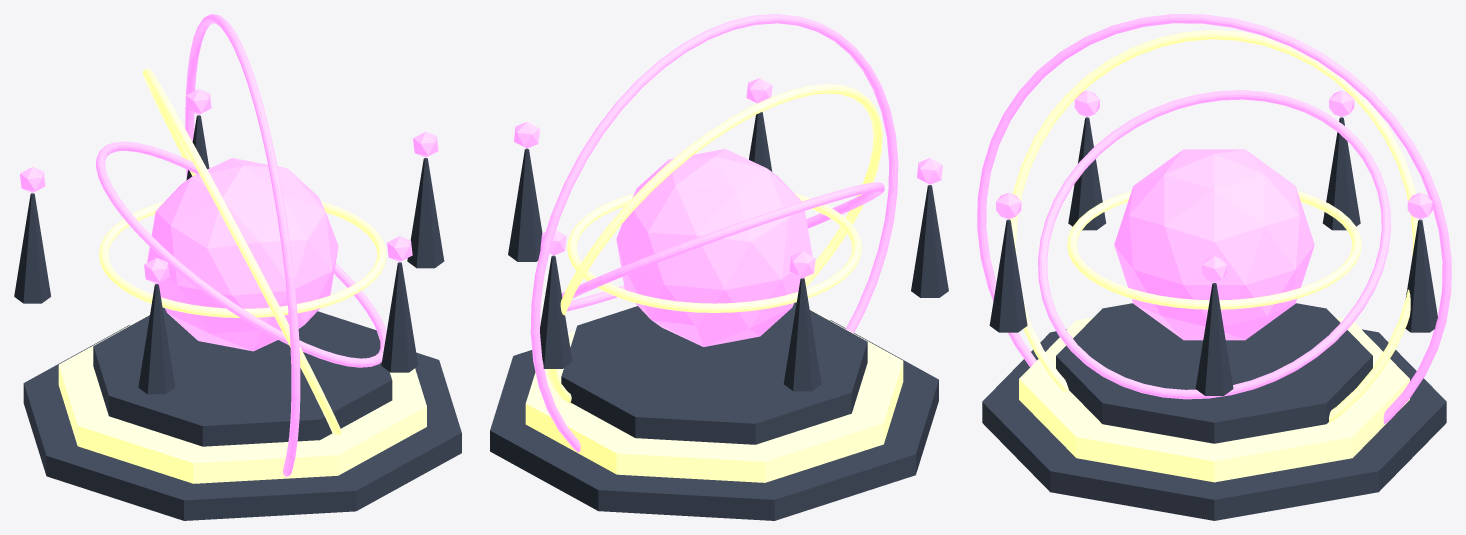
File: gpu-blender-v16.glb
3 renders of one model, left to right at view 1: azimuth 30°, elevation 25°; view 2: azimuth 150°, elevation 25°; view 3: azimuth 270°, elevation 25°, orthographic. The views are drawn at different scales.
Visible parts, largest first — view 1: Cylinder.002, SovereignCore_audiocipher-stego-engine, Cylinder, Cylinder.001, Torus.003, Torus.001, Torus.002, Torus, Cone.003, Cone.004, Cone.002, Cone (+5 smaller); view 2: Cylinder.002, SovereignCore_audiocipher-stego-engine, Cylinder, Cylinder.001, Torus.003, Torus.002, Torus, Torus.001, Cone.002, Cone.003, Cone, Cone.001 (+4 smaller); view 3: SovereignCore_audiocipher-stego-engine, Cylinder.002, Cylinder, Cylinder.001, Torus.003, Torus.001, Torus.002, Torus, Cone.004, Cone, Cone.001, Cone.002 (+2 smaller).
Boxes of the visible parts, <box> form: Cylinder.002: <box>93,307,392,446</box>; SovereignCore_audiocipher-stego-engine: <box>147,158,338,351</box>; Cylinder: <box>23,325,461,520</box>; Cylinder.001: <box>58,315,426,483</box>; Torus.003: <box>185,14,300,476</box>; Torus.001: <box>96,141,386,367</box>; Torus.002: <box>142,68,341,435</box>; Torus: <box>99,201,386,317</box>; Cone.003: <box>138,284,175,394</box>; Cone.004: <box>381,262,418,372</box>; Cone.002: <box>14,193,50,303</box>; Cone: <box>407,158,444,268</box>; Cylinder.002: <box>561,302,867,444</box>; SovereignCore_audiocipher-stego-engine: <box>616,149,812,346</box>; Cylinder: <box>490,320,938,520</box>; Cylinder.001: <box>525,310,903,482</box>; Torus.003: <box>530,14,898,452</box>; Torus.002: <box>547,84,882,403</box>; Torus: <box>567,193,861,312</box>; Torus.001: <box>561,182,884,311</box>; Cone.002: <box>783,278,821,391</box>; Cone.003: <box>911,185,948,297</box>; Cone: <box>508,148,542,261</box>; Cone.001: <box>540,255,572,368</box>; SovereignCore_audiocipher-stego-engine: <box>1114,149,1314,340</box>; Cylinder.002: <box>1056,303,1372,443</box>; Cylinder: <box>982,329,1446,520</box>; Cylinder.001: <box>1019,317,1409,482</box>; Torus.003: <box>977,14,1451,424</box>; Torus.001: <box>1038,90,1390,399</box>; Torus.002: <box>1008,30,1420,422</box>; Torus: <box>1067,191,1361,309</box>; Cone.004: <box>989,219,1027,332</box>; Cone: <box>1195,283,1233,395</box>; Cone.001: <box>1405,219,1437,332</box>; Cone.002: <box>1322,117,1360,230</box>.
Size of the model in its own units: 4.41 by 4.7 by 4.49.
